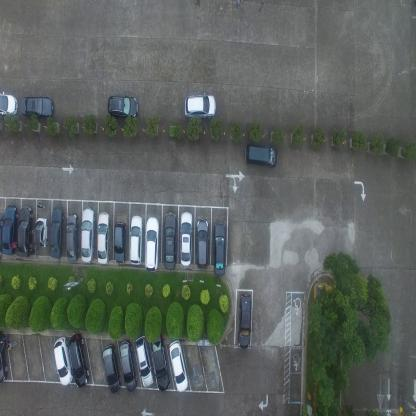car: (150, 331, 170, 391), (68, 332, 89, 388), (168, 338, 190, 391), (53, 335, 73, 386), (135, 335, 154, 388), (119, 339, 138, 391), (106, 93, 139, 122), (16, 205, 34, 258), (102, 343, 121, 393), (80, 205, 96, 264), (1, 204, 19, 256), (245, 141, 278, 169), (145, 216, 161, 272), (20, 95, 54, 121), (238, 292, 253, 350), (184, 93, 216, 120), (97, 211, 112, 266), (180, 210, 194, 266), (49, 207, 64, 259), (164, 212, 177, 269), (196, 217, 210, 269), (130, 214, 144, 266), (65, 212, 79, 263), (213, 222, 226, 276), (113, 222, 127, 264), (0, 90, 18, 119), (0, 328, 9, 384), (34, 216, 48, 249)
